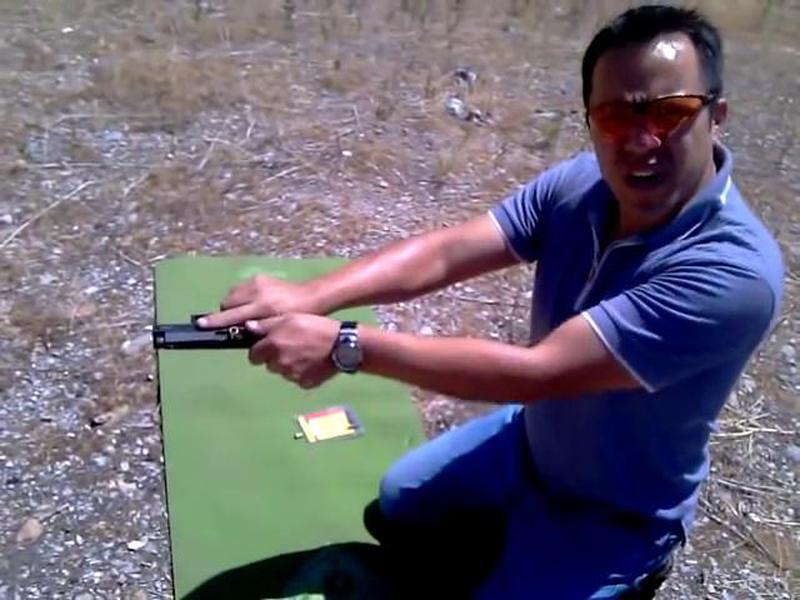Pistola: (151, 290, 282, 377)
